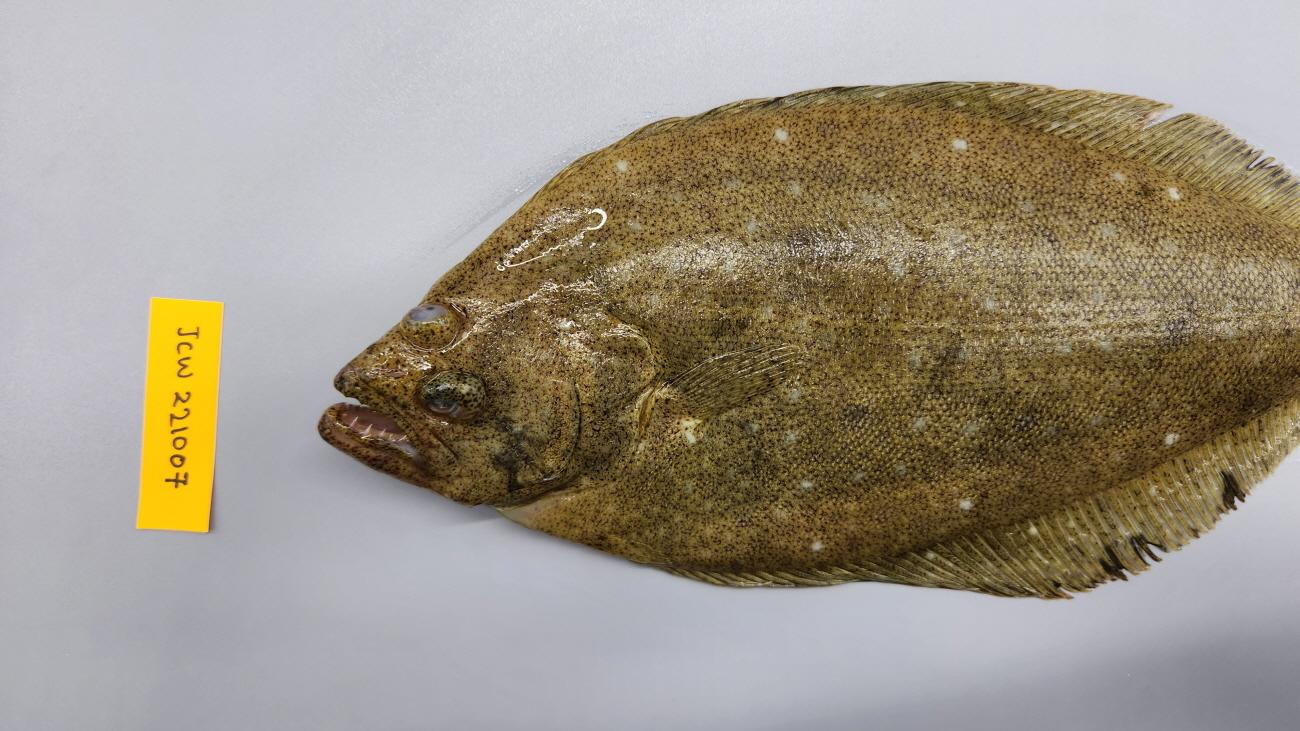POOUN: (316, 81, 1300, 600)
